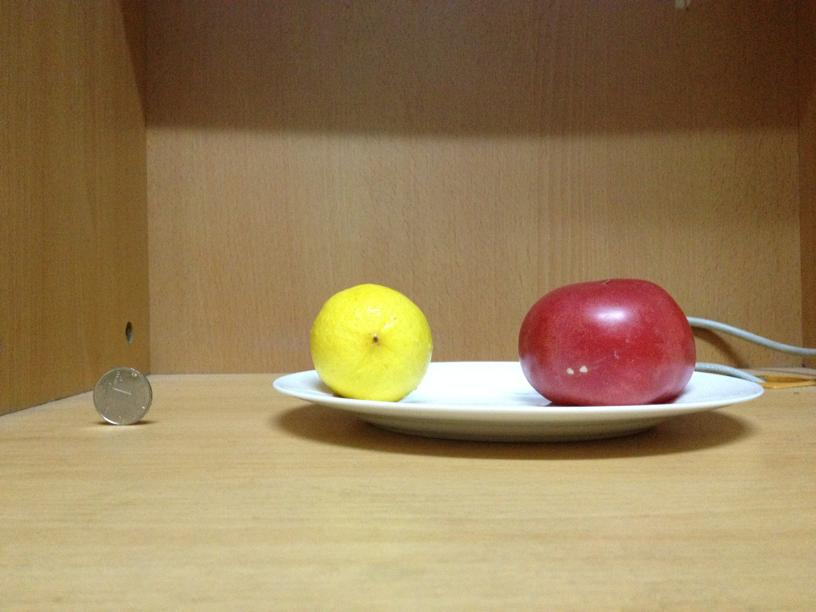coin: (91, 367, 153, 426)
lemon: (307, 284, 432, 401)
tomato: (517, 276, 696, 408)
